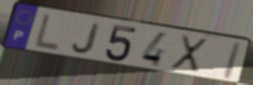4: (137, 30, 170, 69)
5: (103, 23, 140, 63)
I: (219, 41, 245, 82)
J: (71, 22, 103, 56)
L: (31, 12, 62, 54)
X: (168, 34, 210, 76)
